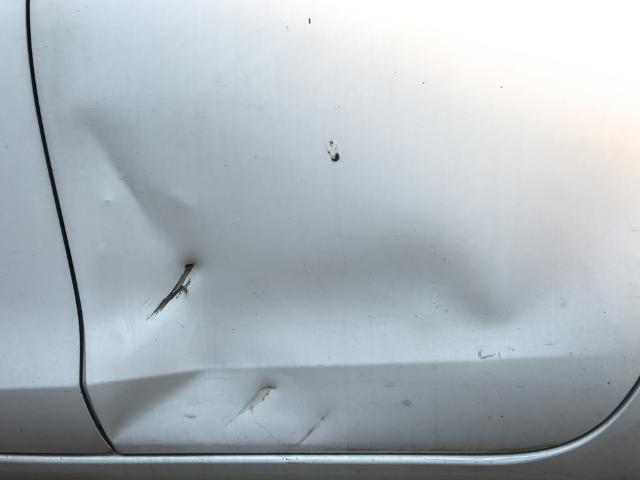dent: (72, 107, 640, 443)
